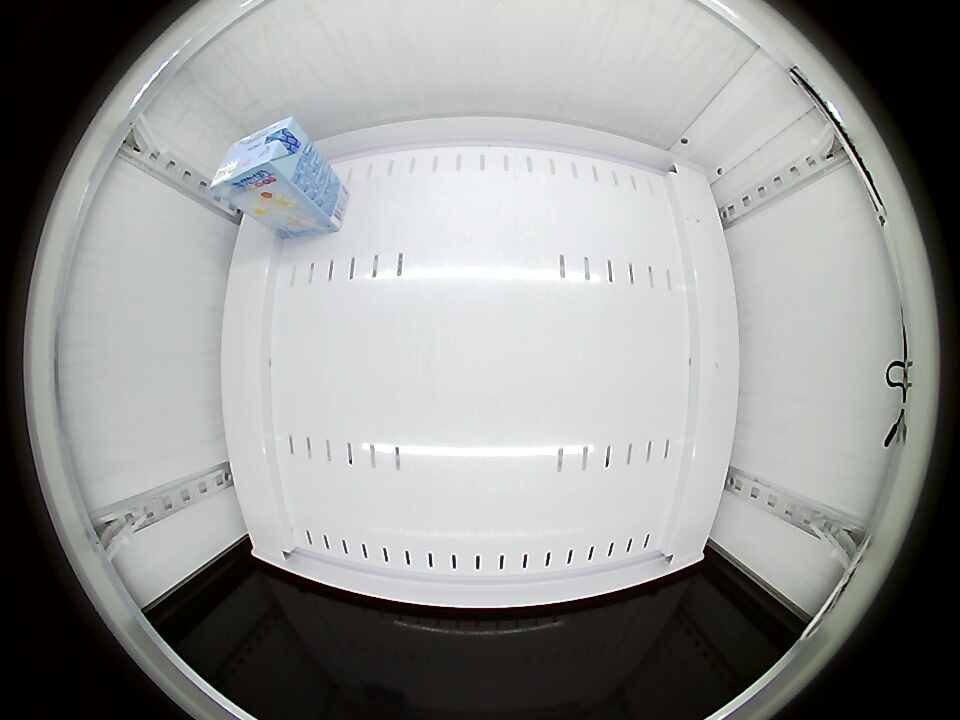weitanaiditang: (209, 116, 310, 204)
